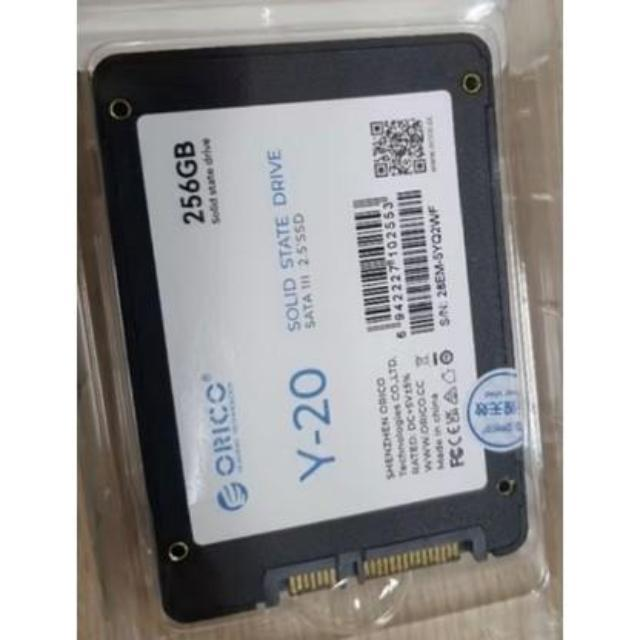DISK: (84, 28, 532, 634)
